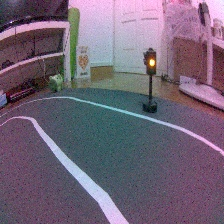amber: (142, 47, 162, 115)
